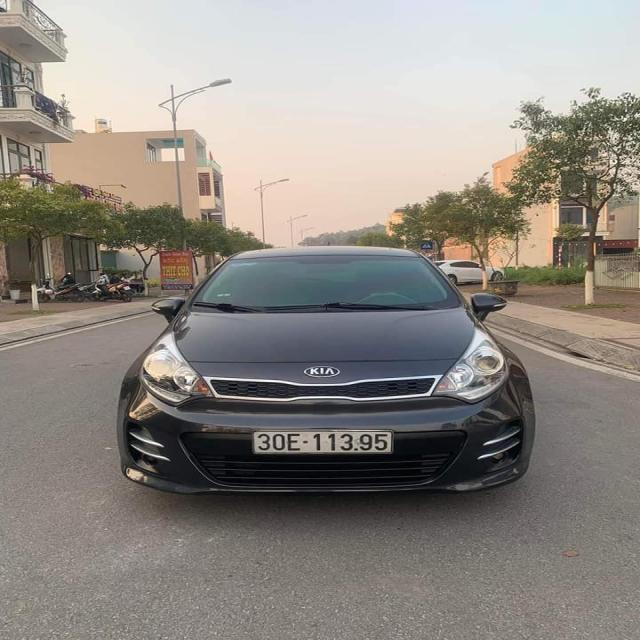car: (118, 243, 542, 505)
plate: (249, 424, 398, 465)
